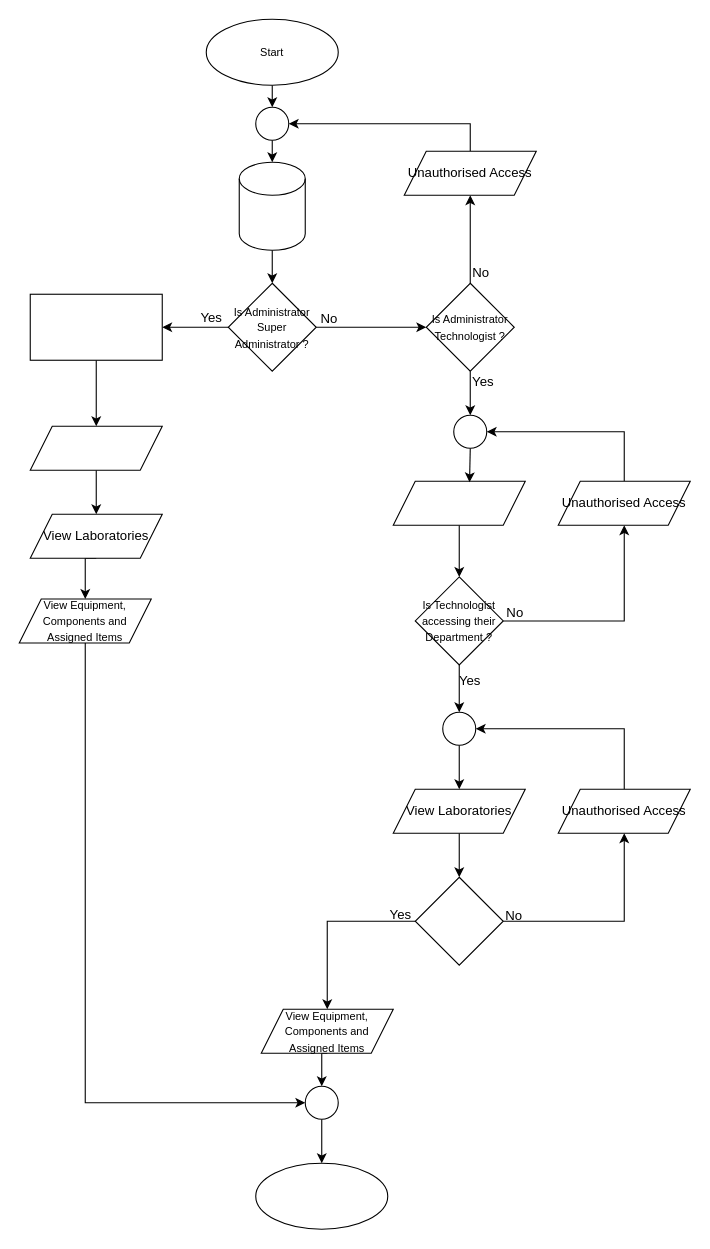
Image size: 710x1249. Some labels were removed from this diagram. Each missing label, with the centre of its shape:
"Administrator Data" belongs at point (271, 205).
"Allow Access" belongs at point (95, 326).
"Display Administrator Dashboard" belongs at point (95, 447).
"Is Technologist accessing their Laboratory ?" belongs at point (458, 920).
"Stop" belongs at point (321, 1195).
"View Departments" belongs at point (458, 502).
